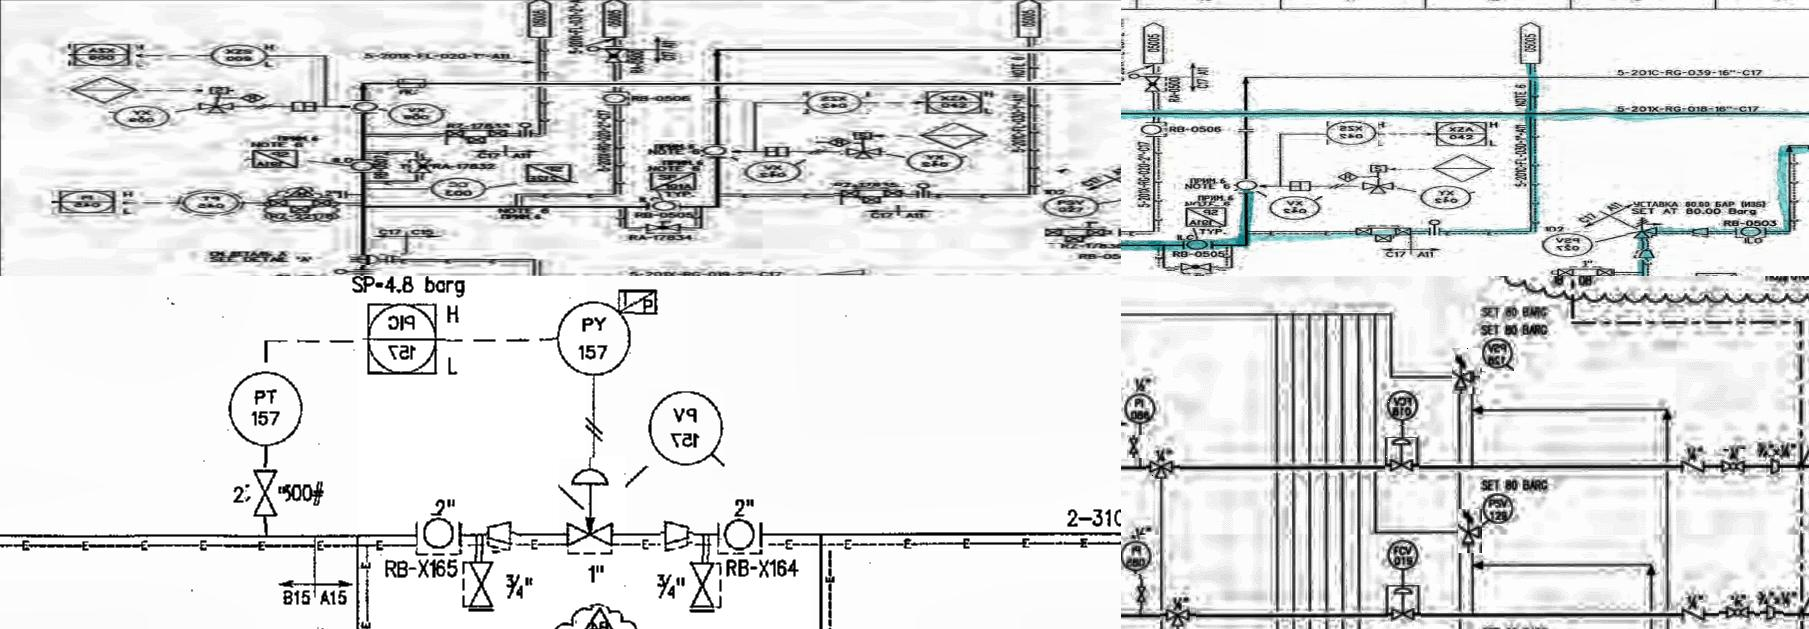2 WAY VALVE: (262, 196, 340, 215), (834, 186, 907, 205), (438, 127, 512, 145), (1044, 227, 1118, 244)
3 WAY GENERAL VALVE: (1159, 604, 1196, 629), (1146, 459, 1180, 484), (840, 147, 885, 162), (197, 102, 240, 114)
ANGLE RELIEF VALVE: (1453, 349, 1483, 394), (1459, 509, 1484, 554)
BLIND SPADE OPEN: (333, 267, 385, 276), (910, 180, 934, 199), (511, 122, 536, 140)
CONCENTRIC REDUCER: (661, 519, 695, 554), (487, 514, 517, 552), (1767, 455, 1782, 477)
CONNECTOR: (1761, 605, 1785, 627)
DCS ACCESSIBLE: (363, 301, 446, 385), (916, 88, 989, 117), (51, 188, 122, 216), (69, 42, 138, 69), (1121, 390, 1164, 434), (1121, 536, 1158, 576)
DIAPHRAGM ACTUATED VALVE: (558, 457, 625, 555), (1388, 586, 1421, 626), (1386, 439, 1419, 477)
DUPLEX RECEPTACLE: (388, 75, 429, 90)
END FLANGED: (704, 93, 734, 104), (380, 253, 400, 265)
FIELD INSTRUMENT: (551, 300, 635, 381), (224, 369, 308, 449), (646, 387, 726, 466), (170, 186, 252, 218), (718, 515, 761, 557), (1037, 194, 1106, 219), (737, 159, 805, 185), (416, 514, 460, 552), (803, 89, 868, 114), (208, 43, 269, 68), (107, 106, 174, 129), (428, 177, 489, 201), (906, 150, 969, 173), (1381, 538, 1421, 574), (386, 102, 445, 126), (1384, 391, 1423, 427), (1483, 494, 1517, 526), (1483, 337, 1514, 370), (700, 145, 731, 158), (647, 201, 681, 212), (601, 91, 628, 105), (348, 160, 380, 172), (351, 100, 378, 113), (350, 255, 380, 264)
GATE VALVE: (459, 554, 498, 619), (246, 464, 285, 524), (689, 556, 726, 615), (1132, 579, 1150, 609), (1128, 435, 1148, 458)
GLOBE VALVE: (641, 222, 685, 232), (605, 46, 629, 65), (407, 157, 433, 174)
HARDWIRED INTERLOCK FIELD: (816, 136, 854, 148), (237, 92, 264, 103)
HARDWIRED INTERLOCK PRIMARY.: (60, 77, 142, 103), (917, 123, 992, 149)
IP CONVERTER: (613, 285, 665, 317)
PLUG VALVE: (1714, 449, 1755, 479), (1720, 600, 1756, 629)
REVISION TRIANGLE: (575, 606, 621, 629), (285, 186, 314, 195)
SPECIAL PIPING ITEM: (245, 148, 309, 171), (517, 162, 578, 185), (646, 171, 704, 193)
SPEED FLOW METER: (848, 128, 886, 142), (203, 83, 233, 97)
